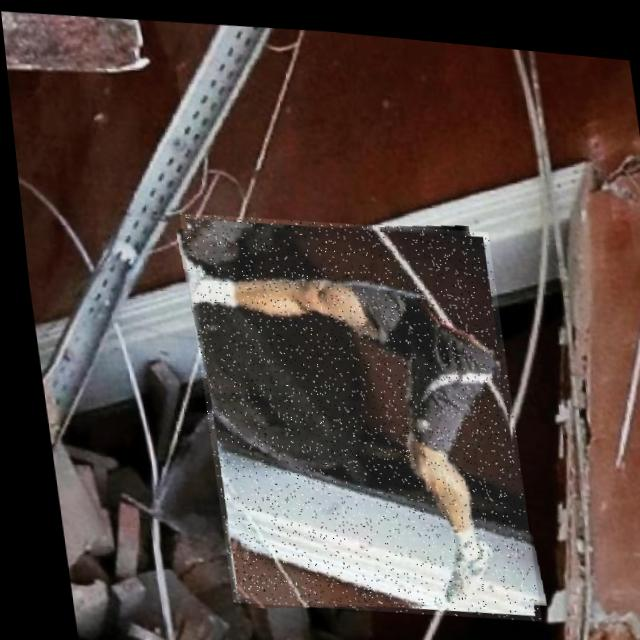Person in Rubble: (173, 198, 529, 622)
